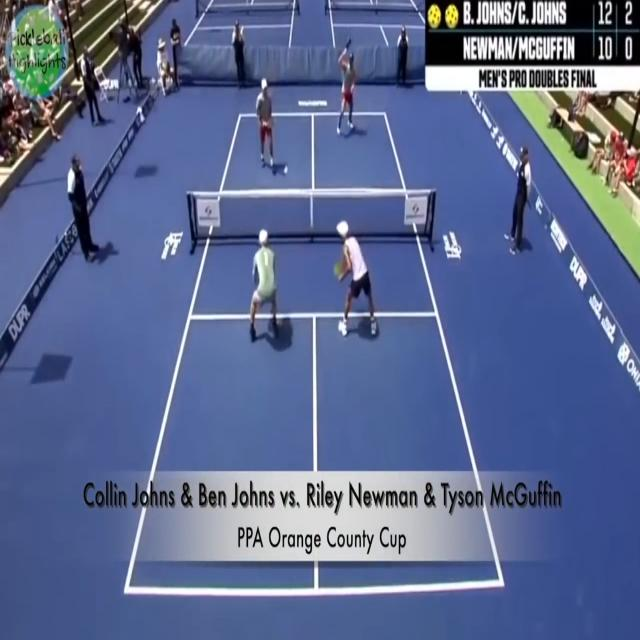Court: (128, 112, 504, 590)
ball: (278, 156, 295, 180)
